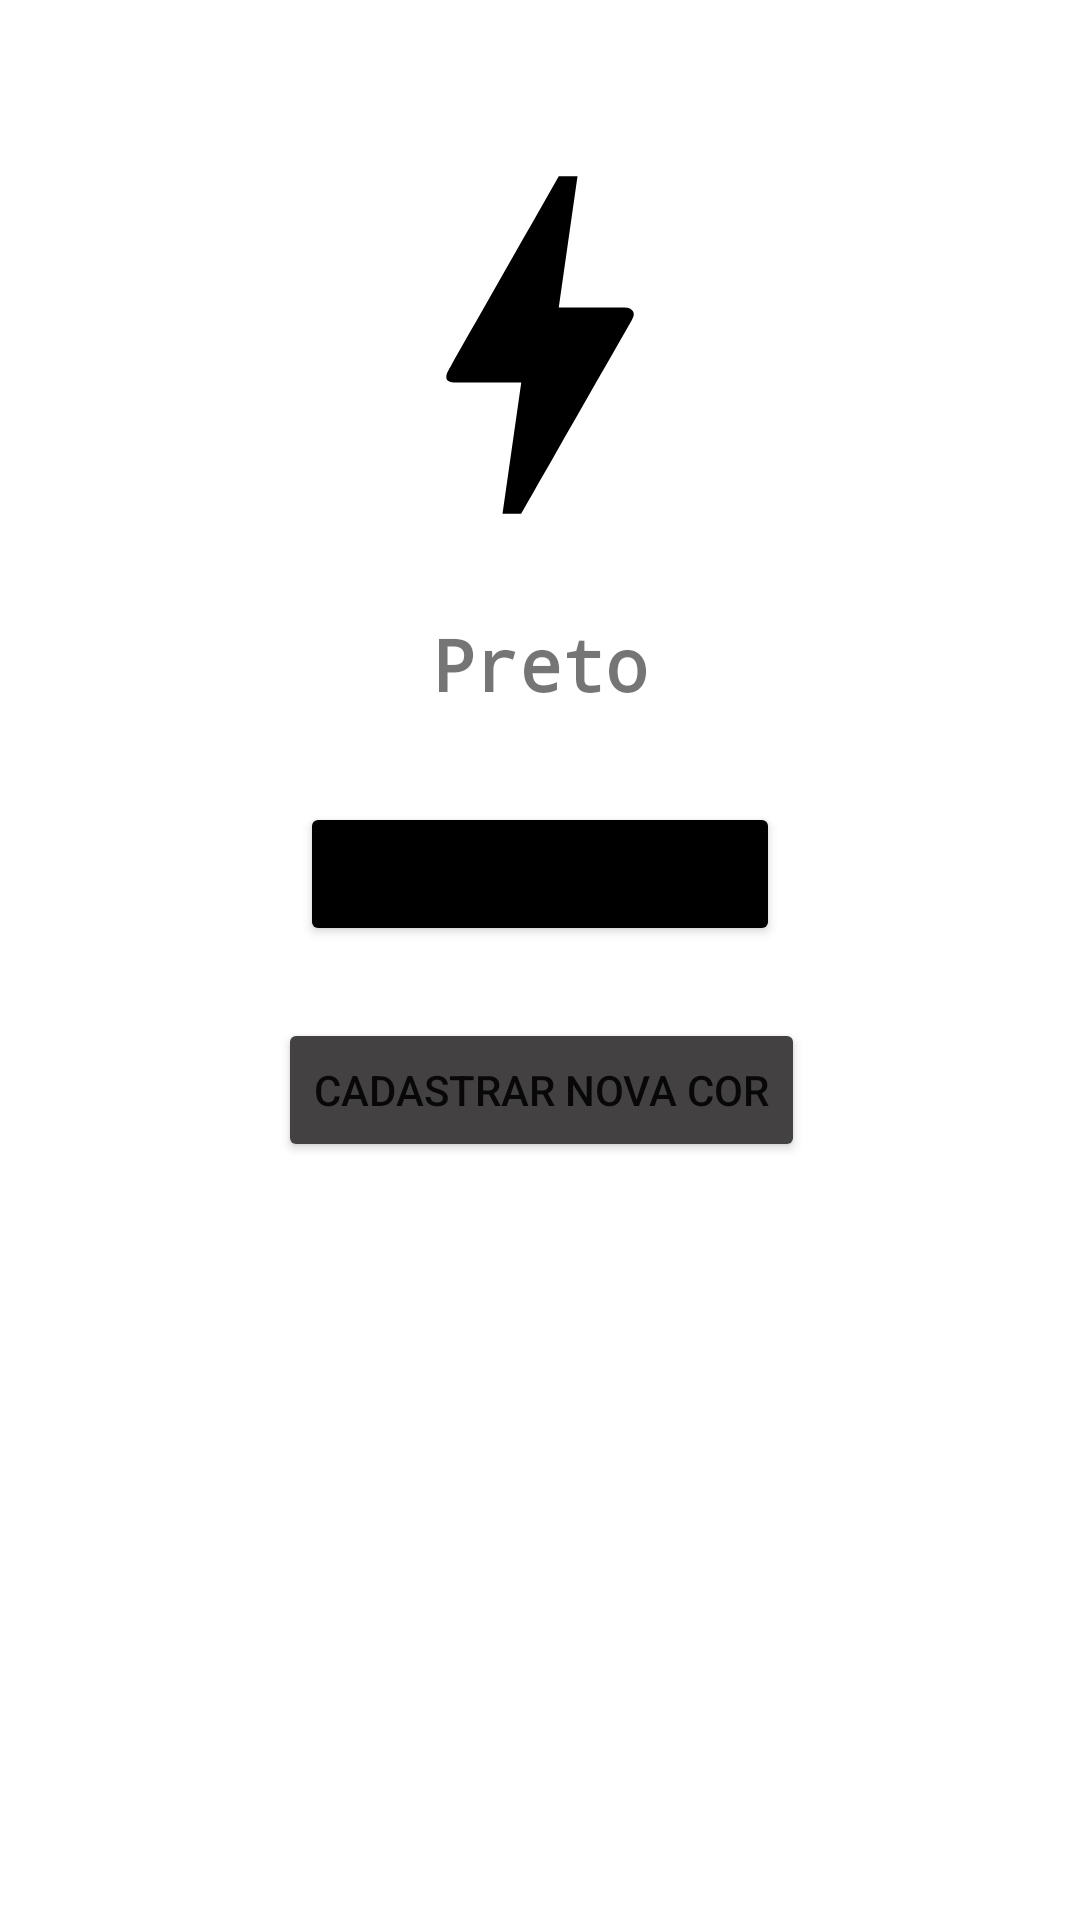

Point at icon controls on the screen. Image size 1080w x 1920h, points as [x,y].
bolt: [540,345]
